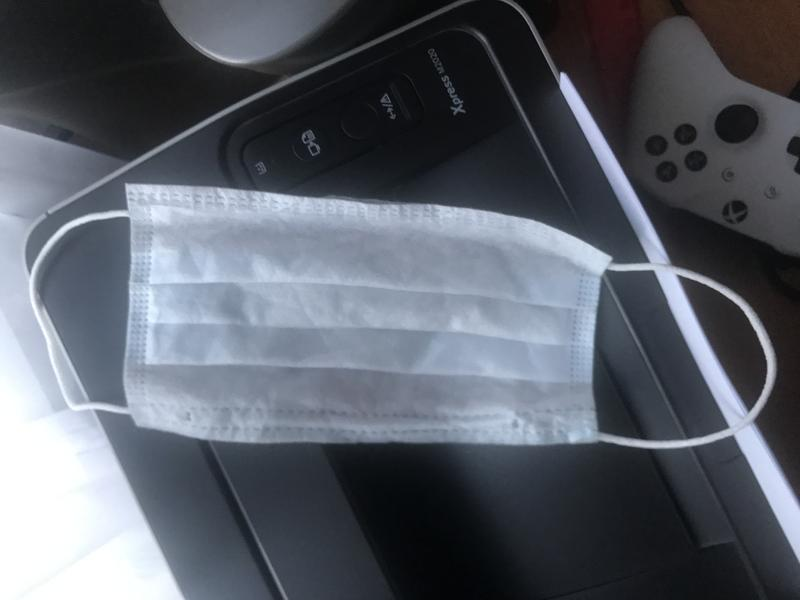medical_mask: (29, 184, 778, 450)
